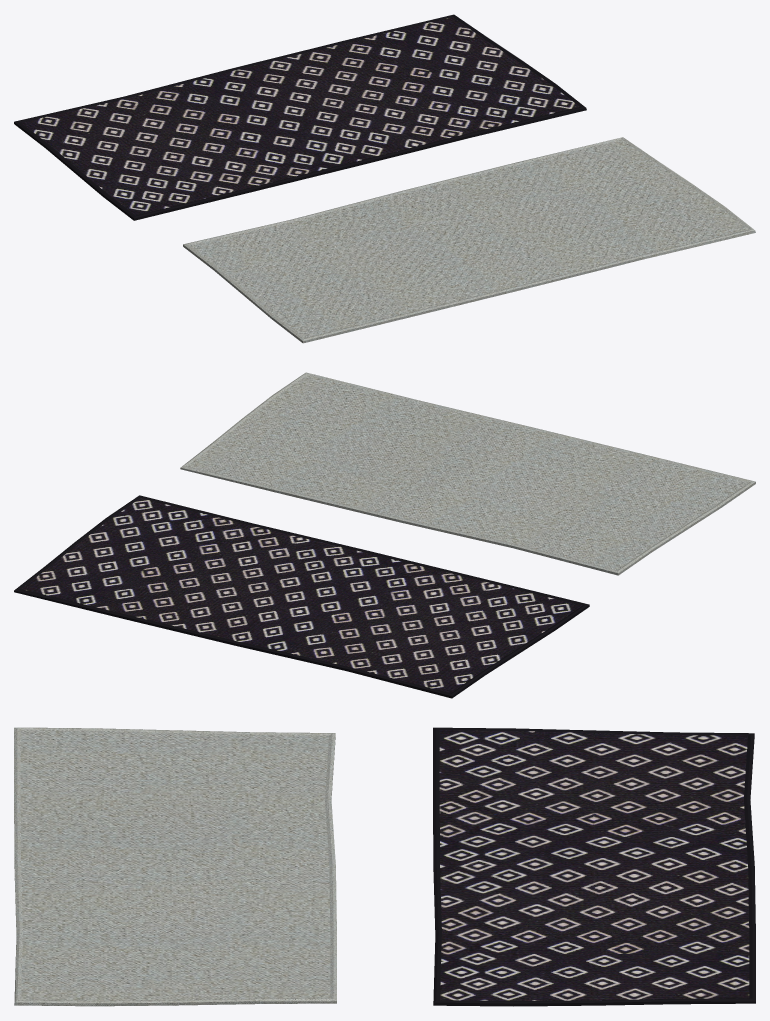
3 renders of one model, top to bottom at view 1: azimuth 30°, elevation 25°; view 2: azimuth 150°, elevation 25°; view 3: azimuth 270°, elevation 25°, orthographic. The views are drawn at different scales.
Visible parts, largest first — view 1: Carpet2_low, Carpet1_low; view 2: Carpet1_low, Carpet2_low; view 3: Carpet1_low, Carpet2_low.
Boxes of the visible parts, <box> form: Carpet2_low: <box>14,14,586,220</box>; Carpet1_low: <box>183,137,755,343</box>; Carpet1_low: <box>180,372,755,575</box>; Carpet2_low: <box>14,495,589,698</box>; Carpet1_low: <box>14,727,336,1006</box>; Carpet2_low: <box>433,727,755,1006</box>.
Size of the model in its own units: 245 by 2.47 by 278.
2 materials, 2 textured.
